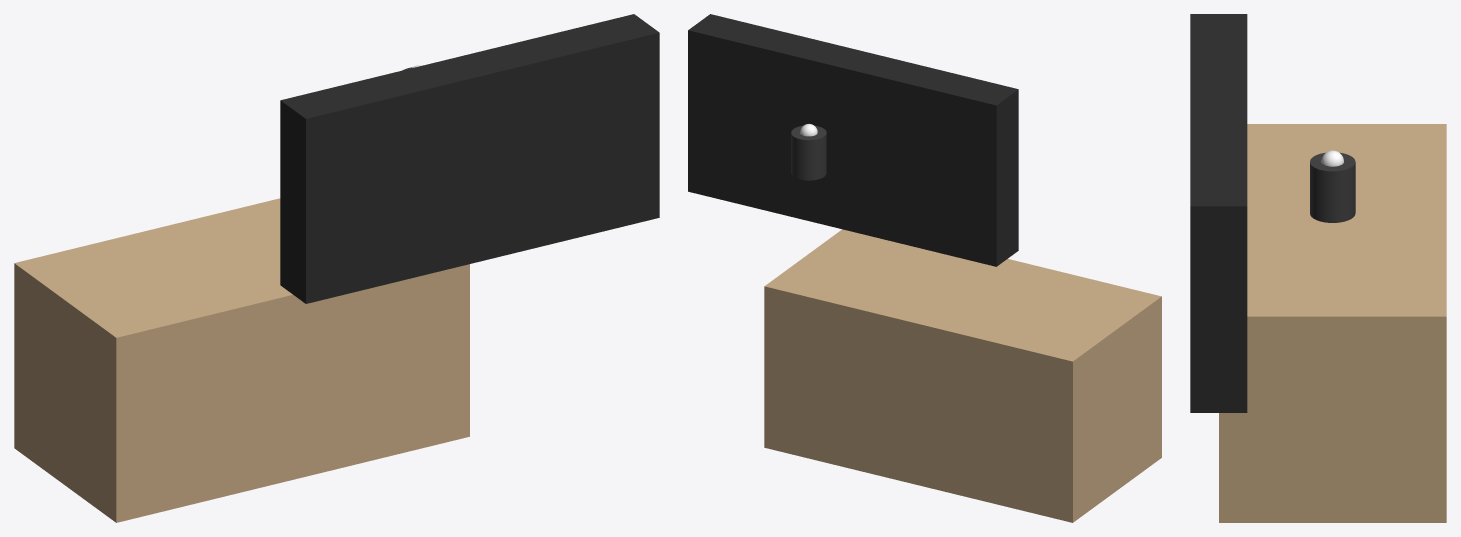
File: desk.glb
The picture shows the model from 3 angles, left to right: view 1: azimuth 30°, elevation 25°; view 2: azimuth 150°, elevation 25°; view 3: azimuth 270°, elevation 25°; orthographic projection. The views are drawn at different scales.
Visible parts, largest first — view 1: desk, monitor; view 2: desk, monitor, lamp_base; view 3: desk, monitor, lamp_base, lamp_bulb.
Boxes of the visible parts, box(x1,y1,x2,y2) form: desk: box(14, 198, 469, 522); monitor: box(280, 14, 659, 303); desk: box(764, 229, 1161, 522); monitor: box(688, 14, 1018, 266); lamp_base: box(791, 125, 826, 180); desk: box(1219, 124, 1446, 522); monitor: box(1190, 14, 1247, 412); lamp_base: box(1310, 152, 1355, 222); lamp_bulb: box(1321, 150, 1343, 166).
Size of the model in its own units: 0.6 by 0.4 by 0.225.
